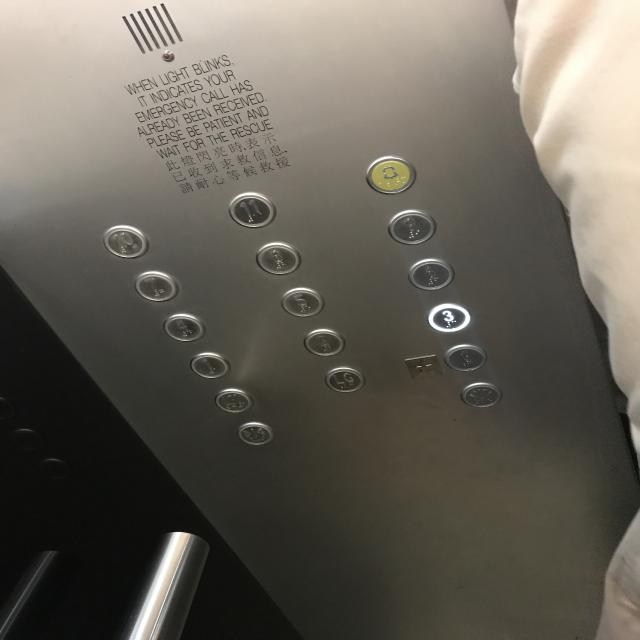1: (189, 352, 230, 378)
10: (100, 224, 150, 258)
11: (226, 191, 277, 229)
2: (302, 328, 344, 358)
3: (427, 302, 471, 332)
4: (162, 313, 205, 342)
5: (280, 286, 324, 318)
6: (404, 257, 454, 290)
7: (133, 270, 178, 302)
8: (254, 242, 300, 274)
9: (385, 208, 437, 246)
G: (443, 342, 488, 373)
LG: (322, 366, 365, 394)
LG1: (213, 388, 251, 413)
alarm: (364, 154, 416, 195)
close: (235, 420, 274, 446)
open: (459, 381, 502, 408)
